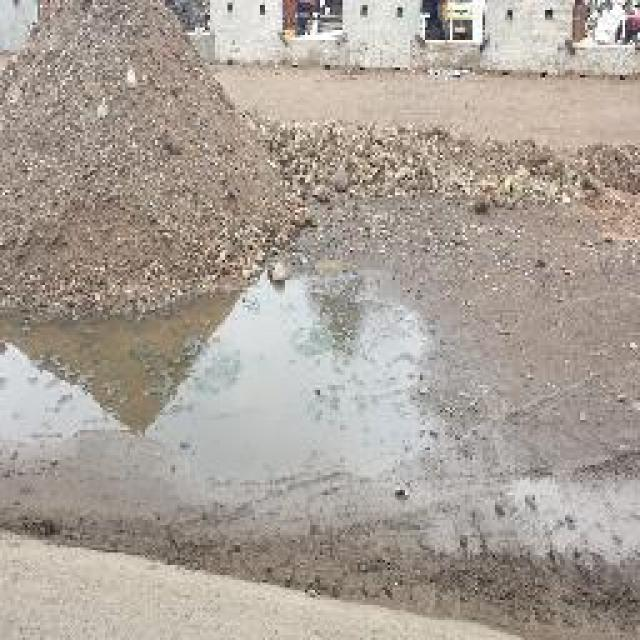stagnation: (45, 312, 452, 480)
